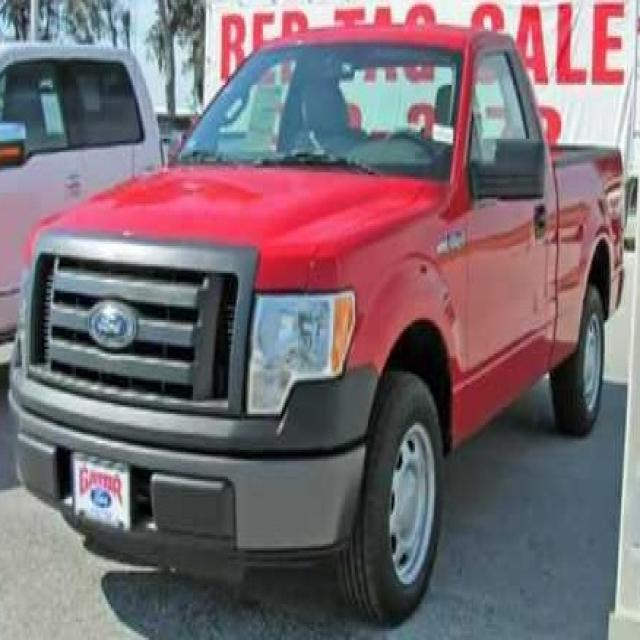CMT: (0, 12, 620, 605)
